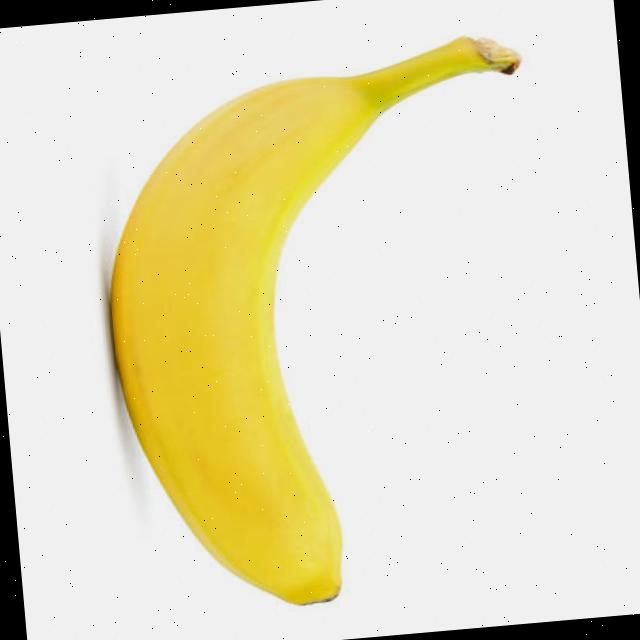Ripe: (88, 34, 518, 626)
